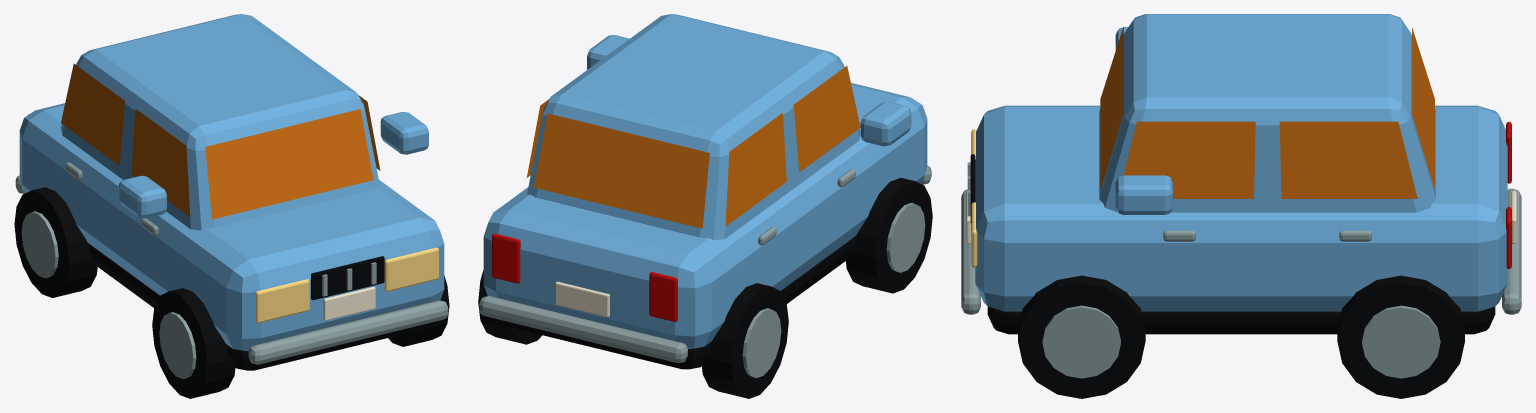
Rendered from HNP_Hatchback_v003.fbx.
3 views of the same model, side by side, from view 1: azimuth 30°, elevation 25°; view 2: azimuth 150°, elevation 25°; view 3: azimuth 270°, elevation 25° (orthographic). The views are drawn at different scales.
Visible parts, largest first — view 1: HNP_Hatchback_v003_HNP3_Body, HNP_Hatchback_v003_HNP3_Atlas, Wheel_-1_-0.975, Wheel_-1_0.975, WheelRim, WheelRim.001, Wheel_1_0.975; view 2: HNP_Hatchback_v003_HNP3_Body, HNP_Hatchback_v003_HNP3_Atlas, Wheel_-1_-0.975, Wheel_-1_0.975, WheelRim, WheelRim.001, Wheel_1_-0.975; view 3: HNP_Hatchback_v003_HNP3_Body, HNP_Hatchback_v003_HNP3_Atlas, Wheel_1_-0.975, Wheel_1_0.975, WheelRim.002, WheelRim.003.
Part boxes in pixels (x1=…): HNP_Hatchback_v003_HNP3_Body: x1=19, y1=14, x2=444, y2=351; HNP_Hatchback_v003_HNP3_Atlas: x1=15, y1=63, x2=448, y2=370; Wheel_-1_-0.975: x1=14, y1=187, x2=97, y2=297; Wheel_-1_0.975: x1=152, y1=288, x2=235, y2=398; WheelRim: x1=21, y1=211, x2=58, y2=278; WheelRim.001: x1=159, y1=312, x2=196, y2=378; Wheel_1_0.975: x1=388, y1=275, x2=449, y2=346; HNP_Hatchback_v003_HNP3_Body: x1=483, y1=14, x2=927, y2=348; HNP_Hatchback_v003_HNP3_Atlas: x1=479, y1=66, x2=931, y2=369; Wheel_-1_-0.975: x1=702, y1=283, x2=788, y2=398; Wheel_-1_0.975: x1=845, y1=177, x2=932, y2=293; WheelRim: x1=742, y1=308, x2=781, y2=377; WheelRim.001: x1=886, y1=203, x2=925, y2=272; Wheel_1_-0.975: x1=478, y1=270, x2=541, y2=344; HNP_Hatchback_v003_HNP3_Body: x1=975, y1=14, x2=1507, y2=311; HNP_Hatchback_v003_HNP3_Atlas: x1=961, y1=26, x2=1521, y2=334; Wheel_1_-0.975: x1=1337, y1=275, x2=1464, y2=398; Wheel_1_0.975: x1=1018, y1=275, x2=1145, y2=398; WheelRim.002: x1=1362, y1=305, x2=1440, y2=378; WheelRim.003: x1=1042, y1=305, x2=1120, y2=378.
Size of the model in its own units: 238 by 185 by 342.
Materials: 2 (1 with a texture image).
